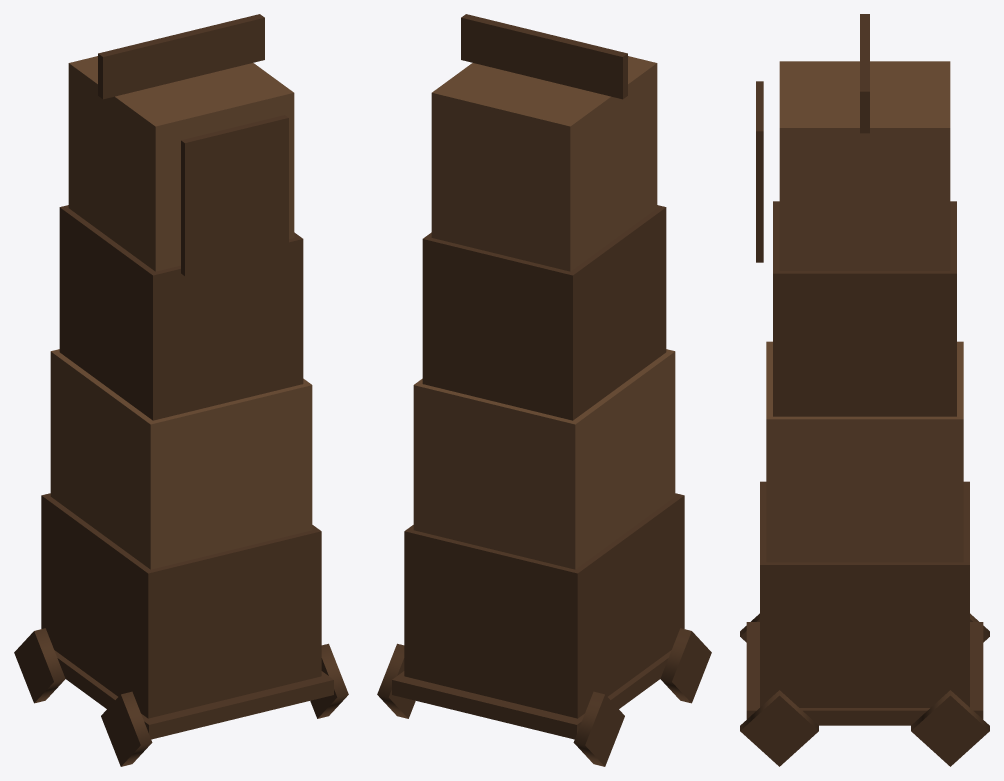
File: unit_mil_siege_tower_a04_lod2.glb
3 views of the same model, side by side, from view 1: azimuth 30°, elevation 25°; view 2: azimuth 150°, elevation 25°; view 3: azimuth 270°, elevation 25° (orthographic).
Parts seen in each view (by area): view 1: body, bridge, wheel_0, wheel_2, wheel_3; view 2: body, wheel_2, wheel_0, wheel_1; view 3: body, wheel_1, wheel_3, bridge.
Part boxes in pixels (x1=…): body: x1=41, y1=14, x2=333, y2=739; bridge: x1=181, y1=115, x2=288, y2=275; wheel_0: x1=14, y1=628, x2=65, y2=703; wheel_2: x1=101, y1=691, x2=152, y2=766; wheel_3: x1=310, y1=643, x2=348, y2=718; body: x1=392, y1=14, x2=684, y2=739; wheel_2: x1=660, y1=628, x2=711, y2=703; wheel_0: x1=573, y1=691, x2=624, y2=766; wheel_1: x1=377, y1=643, x2=415, y2=718; body: x1=746, y1=14, x2=983, y2=725; wheel_1: x1=911, y1=690, x2=989, y2=766; wheel_3: x1=740, y1=690, x2=818, y2=766; bridge: x1=756, y1=81, x2=763, y2=262.
Size of the model in its own units: 3.6 by 11.15 by 3.8.
